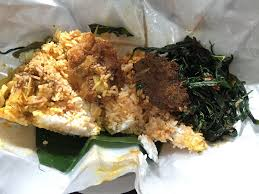Nasi padang: (1, 23, 250, 152)
